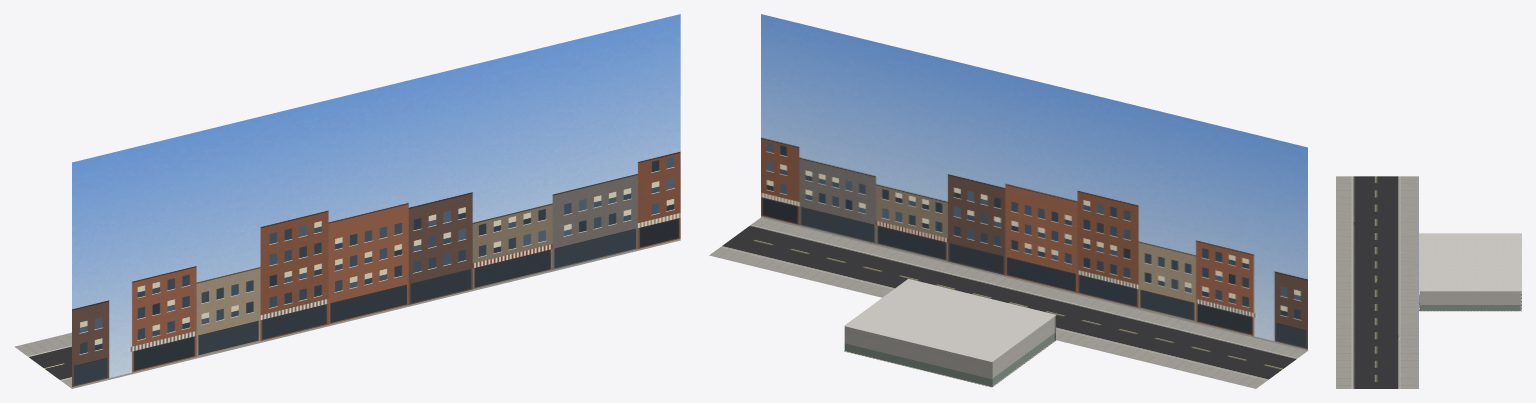
Rendered from main_floor.glb.
The picture shows the model from 3 angles, left to right: view 1: azimuth 30°, elevation 25°; view 2: azimuth 150°, elevation 25°; view 3: azimuth 270°, elevation 25°; orthographic projection. The views are drawn at different scales.
Parts seen in each view (by area): view 1: Backdrop_Street; view 2: Backdrop_Street, Ceiling_Tile, Wall_Paint, Wall_Lower; view 3: Backdrop_Street, Ceiling_Tile, Wall_Paint, Wall_Lower.
Part boxes in pixels (left/top/right/bottom): Backdrop_Street: left=14, top=14, right=680, bottom=388; Backdrop_Street: left=709, top=14, right=1307, bottom=388; Ceiling_Tile: left=844, top=279, right=1055, bottom=361; Wall_Paint: left=844, top=315, right=1055, bottom=379; Wall_Lower: left=844, top=333, right=1055, bottom=386; Backdrop_Street: left=1336, top=176, right=1418, bottom=388; Ceiling_Tile: left=1419, top=233, right=1521, bottom=291; Wall_Paint: left=1419, top=291, right=1520, bottom=304; Wall_Lower: left=1419, top=303, right=1520, bottom=310.
Size of the model in its own units: 90 by 32 by 33.2.
28 materials, 9 textured.
